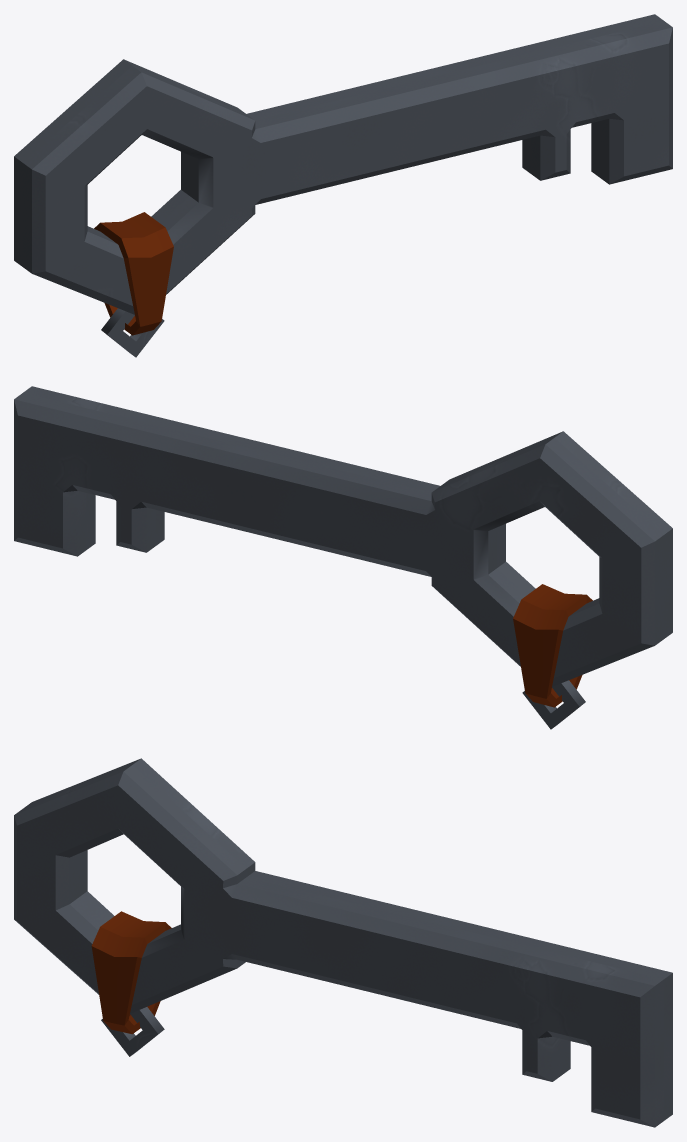
The model's file is key.FBX.
The picture shows the model from 3 angles, top to bottom: view 1: azimuth 30°, elevation 25°; view 2: azimuth 150°, elevation 25°; view 3: azimuth 330°, elevation 25°; orthographic projection.
Parts seen in each view (by area): view 1: Plane005; view 2: Plane005; view 3: Plane005.
Boxes of the visible parts, box(x1,y1,x2,y2) form: Plane005: box(14, 14, 672, 357); Plane005: box(14, 386, 672, 729); Plane005: box(14, 758, 672, 1127).
Size of the model in its own units: 73.73 by 31.84 by 7.4.
